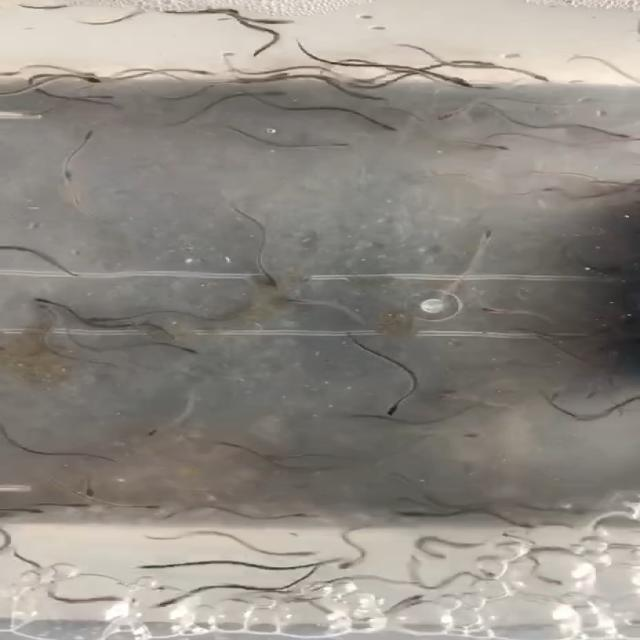active_glass_eel: (507, 62, 564, 90), (243, 269, 297, 298), (473, 136, 527, 160), (364, 113, 410, 140), (310, 138, 372, 158), (466, 218, 511, 245), (589, 123, 636, 148), (420, 105, 468, 129), (443, 74, 488, 98), (348, 84, 396, 106), (483, 528, 538, 547), (254, 86, 308, 105), (457, 52, 503, 74), (88, 94, 136, 114), (375, 393, 415, 417), (171, 64, 223, 81), (200, 439, 252, 456), (472, 565, 517, 584), (153, 594, 200, 612), (330, 556, 370, 577), (280, 507, 323, 526), (506, 513, 550, 531), (478, 298, 508, 323), (76, 69, 109, 91), (76, 478, 106, 502), (389, 507, 434, 523), (129, 423, 170, 440), (175, 342, 218, 358), (130, 500, 172, 516), (401, 591, 448, 605), (91, 591, 132, 607), (260, 13, 302, 27), (64, 127, 100, 143), (536, 572, 567, 590), (568, 388, 606, 402), (126, 563, 173, 574), (289, 550, 331, 562), (22, 304, 60, 317), (20, 504, 55, 518), (264, 67, 294, 83), (247, 46, 275, 61), (534, 388, 562, 403), (418, 550, 453, 560), (21, 296, 62, 304), (72, 497, 91, 513)
